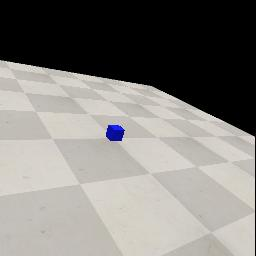box: (106, 125, 125, 141)
